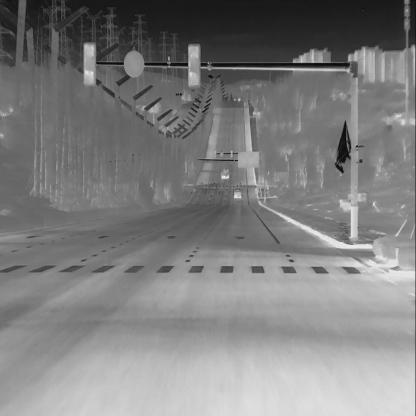car: (370, 206, 416, 276), (220, 168, 230, 180), (233, 188, 242, 198)
